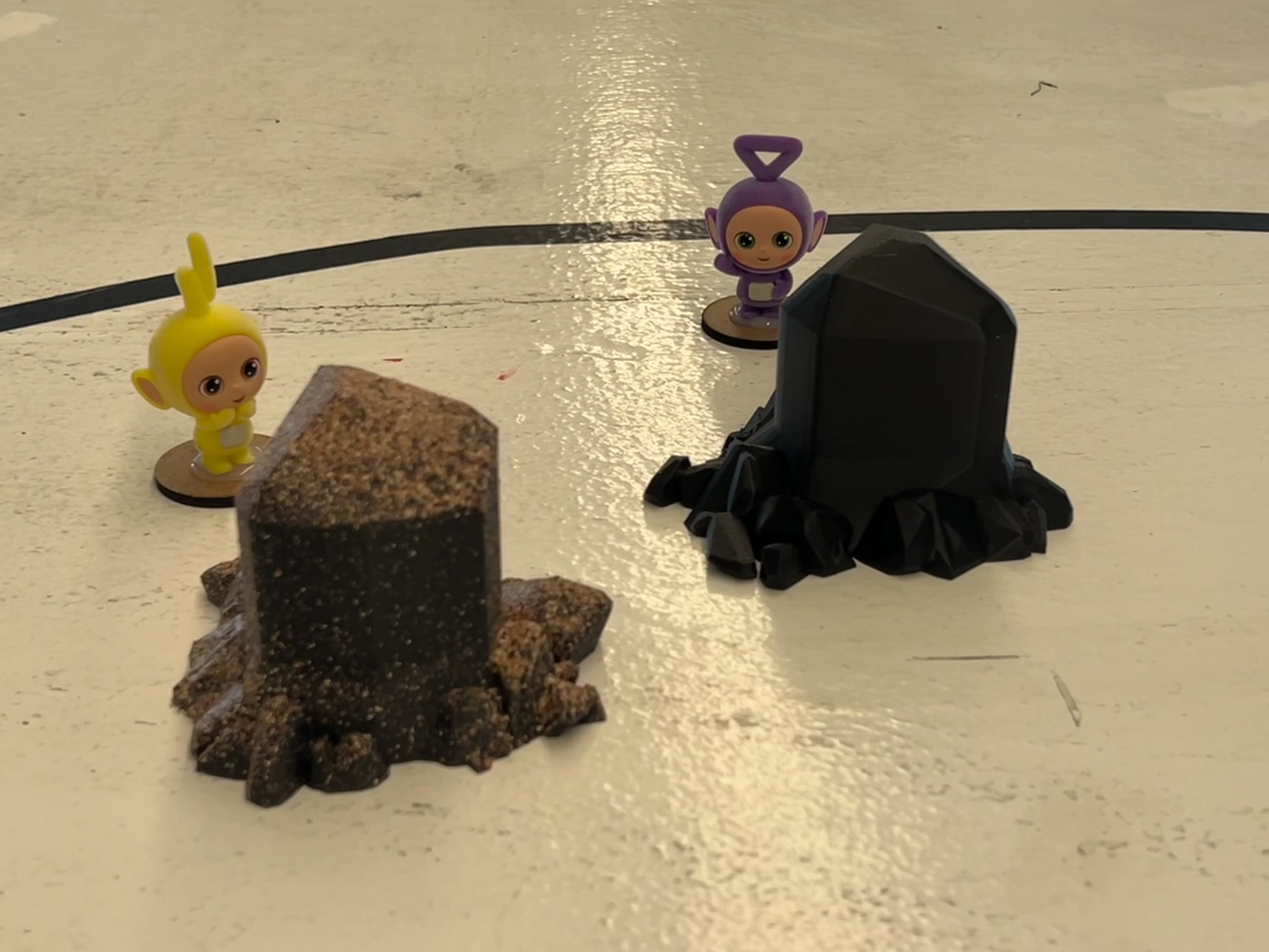teletubby: (131, 233, 268, 476), (704, 135, 827, 320)
